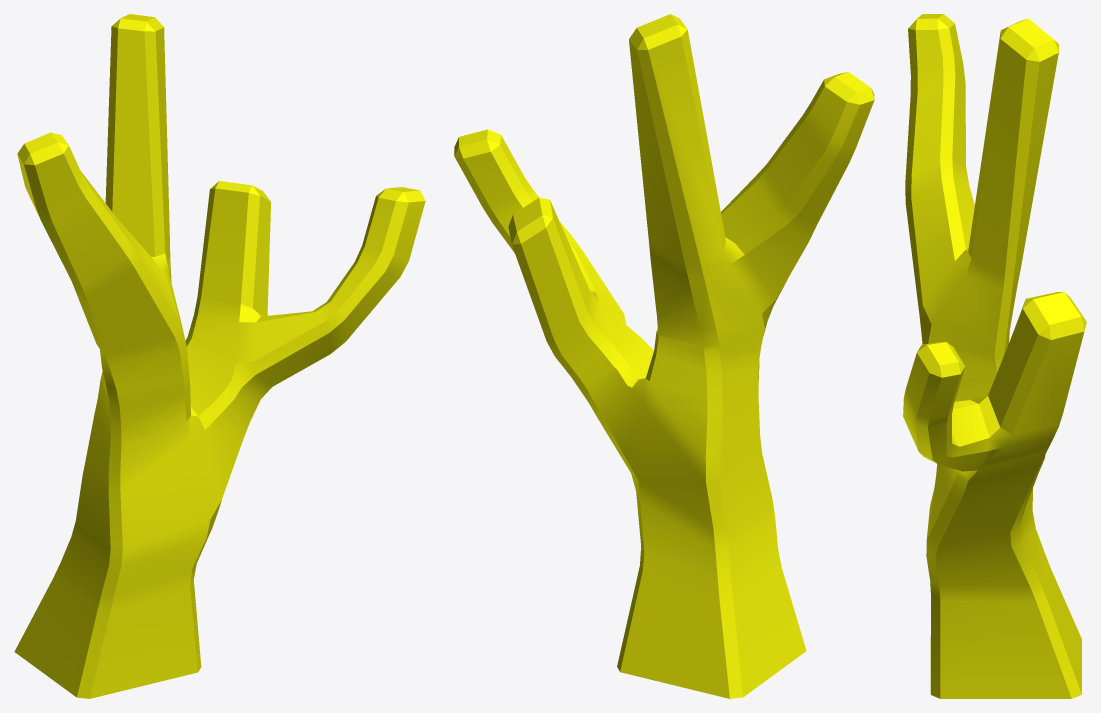
Rendered from DeadTree_2.glb.
The picture shows the model from 3 angles, left to right: view 1: azimuth 30°, elevation 25°; view 2: azimuth 150°, elevation 25°; view 3: azimuth 270°, elevation 25°; orthographic projection. The views are drawn at different scales.
Visible parts, largest first — view 1: DeadTree_2; view 2: DeadTree_2; view 3: DeadTree_2.
Part boxes in pixels (x1=…): DeadTree_2: x1=14, y1=14, x2=425, y2=698; DeadTree_2: x1=454, y1=14, x2=874, y2=698; DeadTree_2: x1=903, y1=14, x2=1086, y2=698.
Bounding box in the file's own units: 2.97 × 4.38 × 1.11.
Materials: 1 (1 with a texture image).
